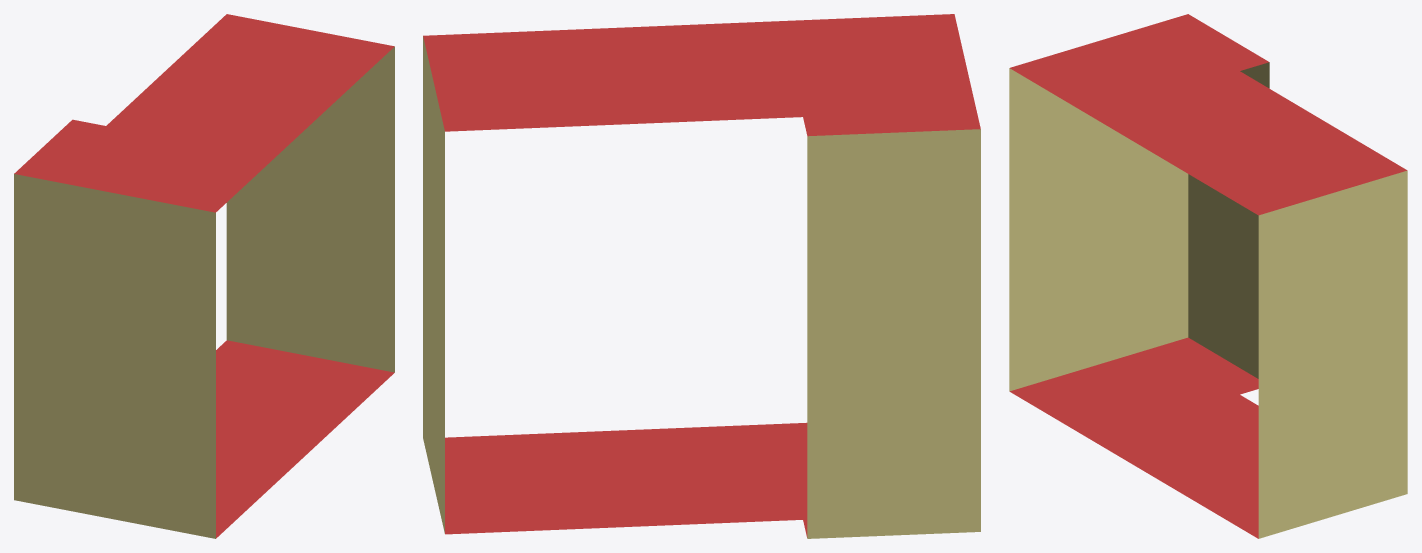
The picture shows the model from 3 angles, left to right: view 1: azimuth 30°, elevation 25°; view 2: azimuth 150°, elevation 25°; view 3: azimuth 270°, elevation 25°; orthographic projection. The views are drawn at different scales.
Size of the model in its own units: 8.06 by 6.73 by 6.03.
